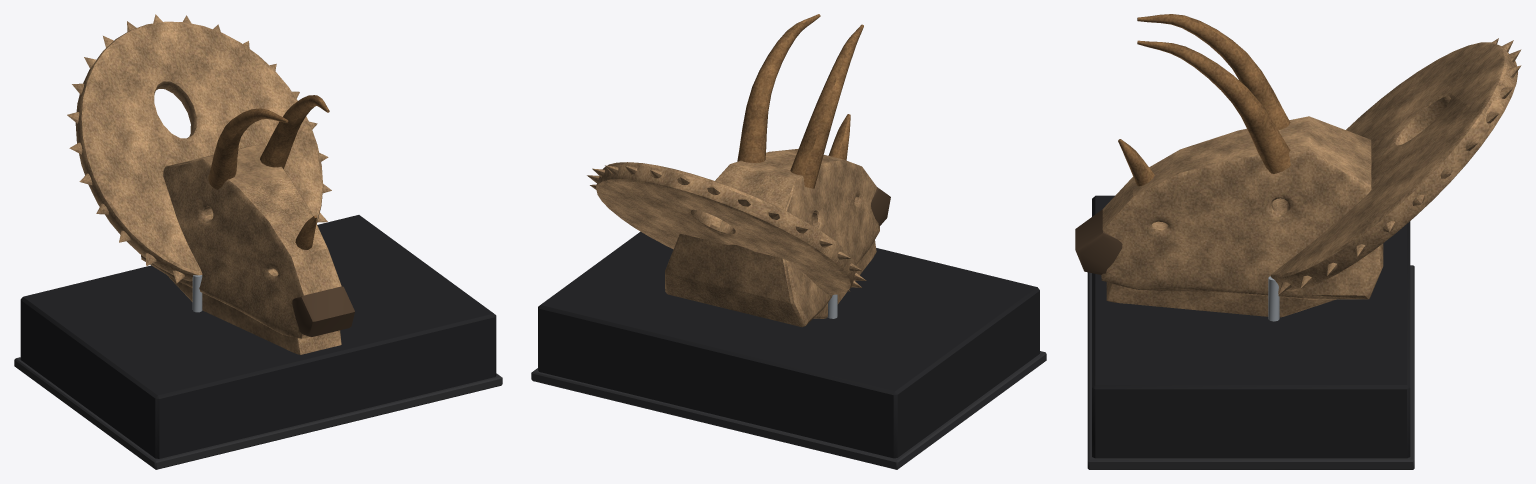
File: horned-dinosaur-skull.glb
3 renders of one model, left to right at view 1: azimuth 30°, elevation 25°; view 2: azimuth 150°, elevation 25°; view 3: azimuth 270°, elevation 25°, orthographic. The views are drawn at different scales.
Parts seen in each view (by area): view 1: Horned_Dinosaur_Skull; view 2: Horned_Dinosaur_Skull; view 3: Horned_Dinosaur_Skull.
Boxes of the visible parts, x1,y1,x2,y2 form: Horned_Dinosaur_Skull: [14, 14, 502, 469]; Horned_Dinosaur_Skull: [531, 14, 1046, 469]; Horned_Dinosaur_Skull: [1075, 14, 1521, 469].
Bounding box in the file's own units: 2.04 × 1.67 × 1.96.
6 materials, 2 textured.
